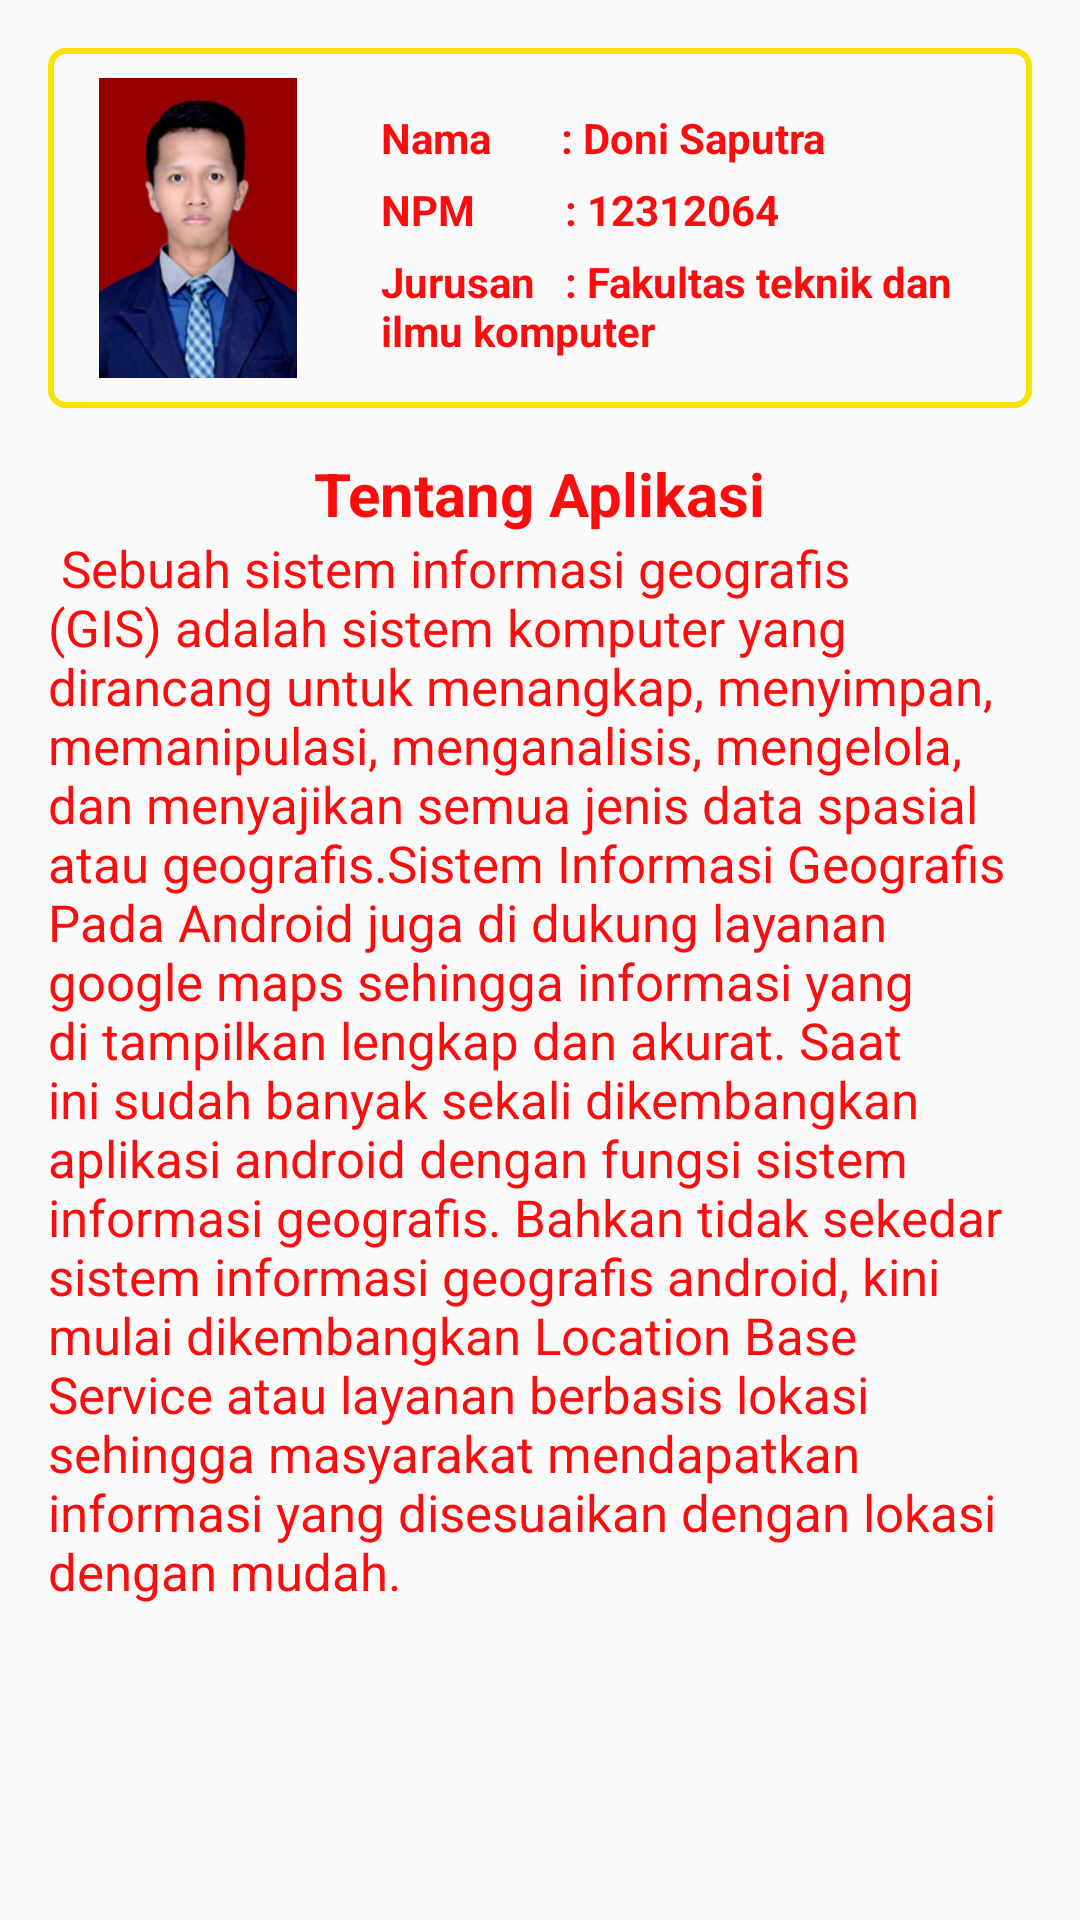

Named icons in this screenshot (1080px×1920px) and their centers, point (x, y):
profile: point (198, 228)
